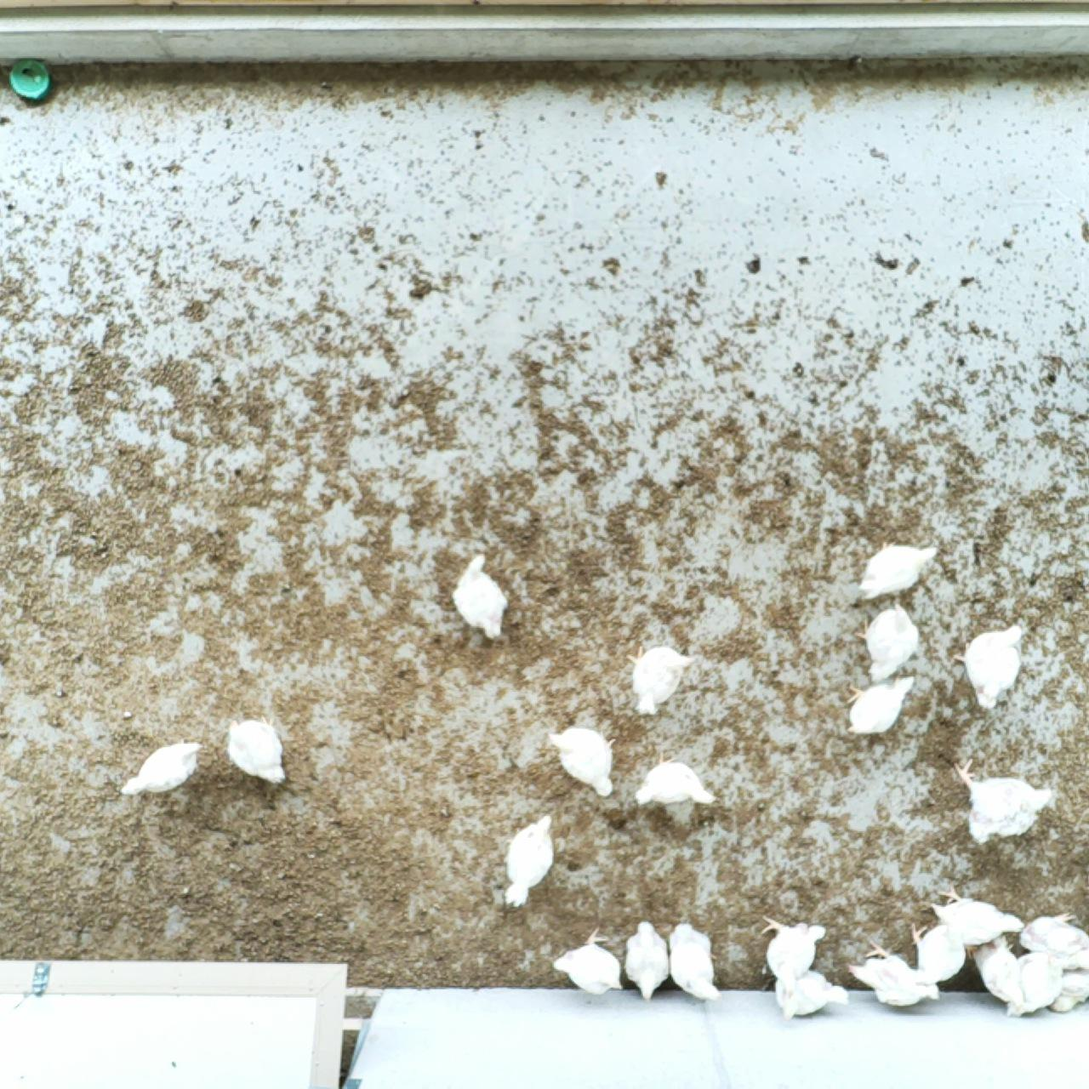chicken: (949, 752, 1053, 849), (843, 937, 945, 1011), (948, 619, 1027, 713), (755, 909, 828, 996), (542, 725, 623, 802), (851, 600, 924, 685), (926, 884, 1025, 946), (499, 811, 558, 911), (624, 638, 695, 720), (548, 924, 626, 998), (450, 549, 511, 642), (855, 538, 940, 604), (117, 740, 206, 803), (631, 750, 720, 812), (844, 672, 919, 742), (664, 918, 724, 1005), (224, 712, 288, 787), (772, 964, 852, 1023), (1014, 910, 1089, 972), (622, 916, 672, 1006), (1002, 950, 1064, 1021), (968, 933, 1029, 1003), (905, 918, 966, 987), (1046, 967, 1089, 1017)
